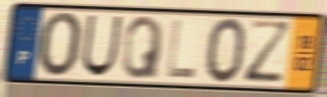L: (164, 18, 198, 81)
O: (37, 11, 86, 81), (204, 16, 248, 86)
Q: (120, 15, 166, 82)
U: (79, 13, 125, 79)
Z: (242, 17, 294, 86)
